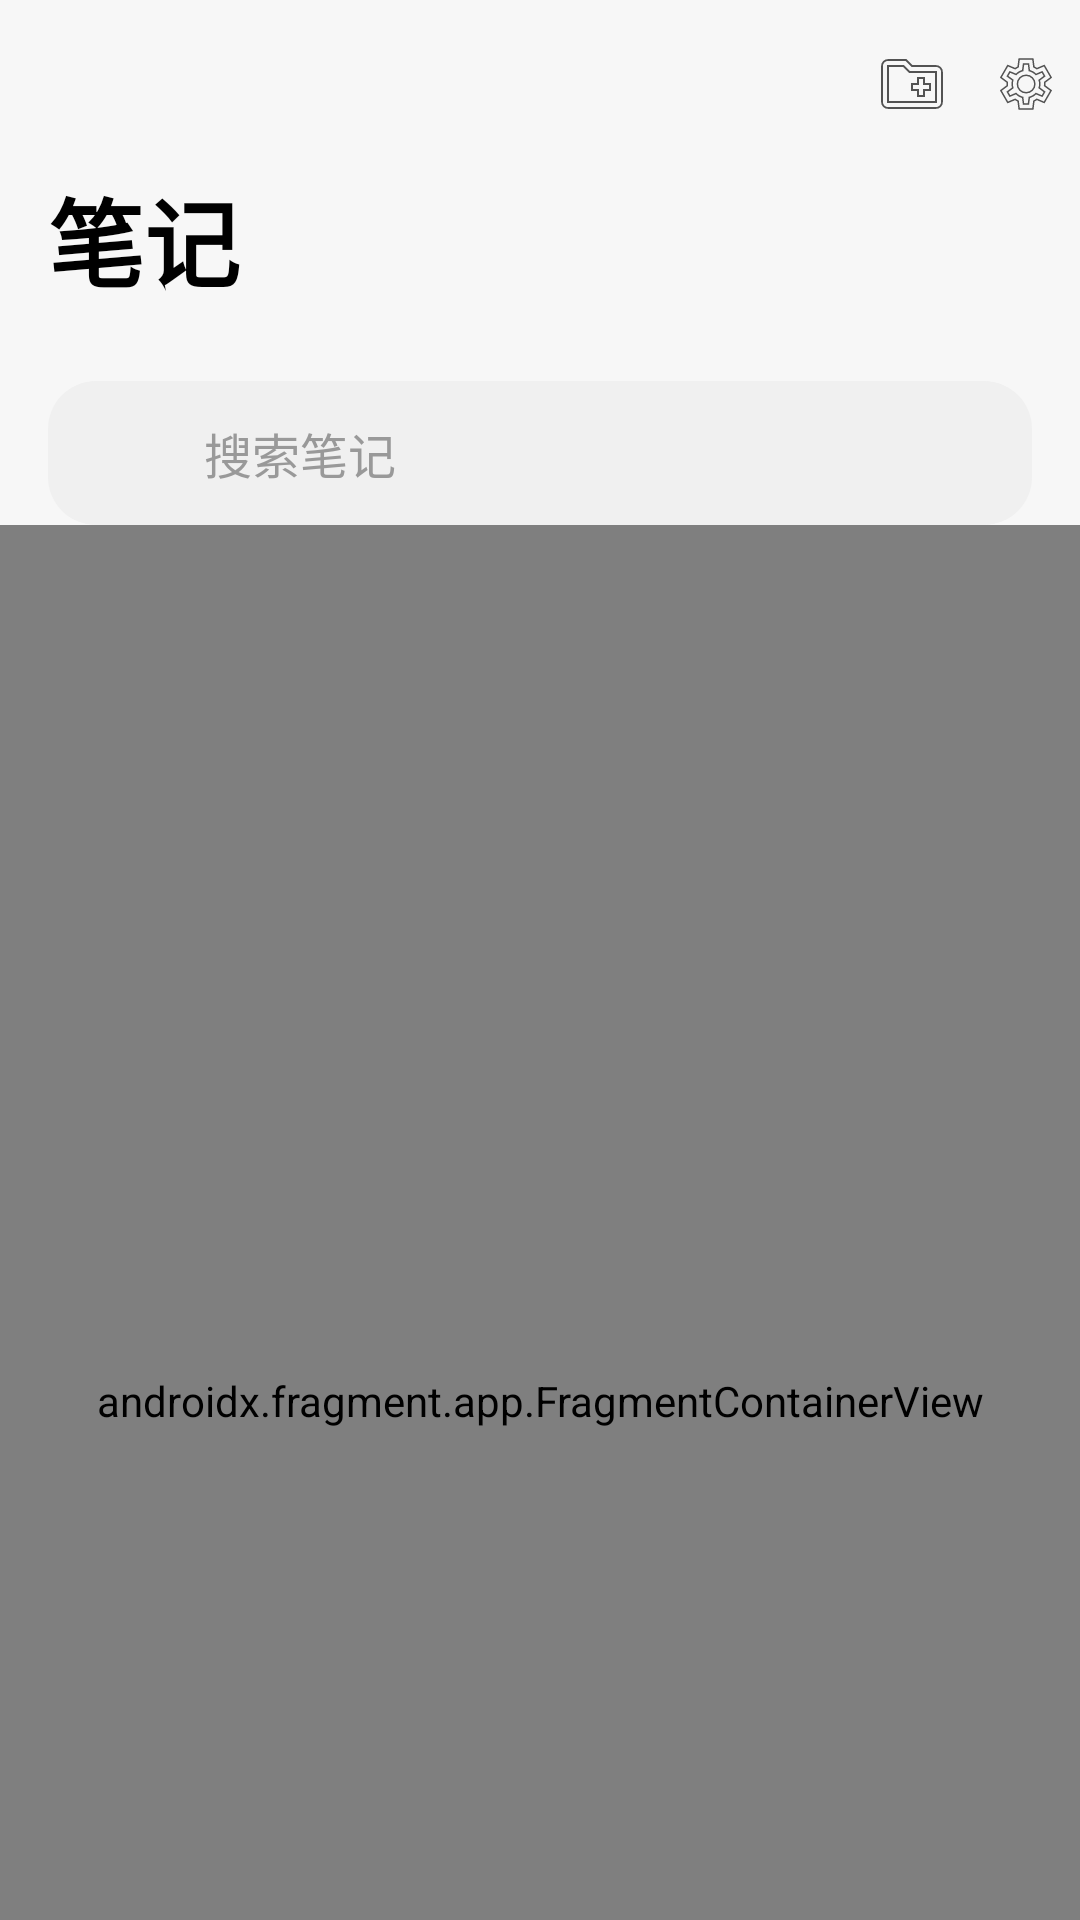

Icons on this 1080 x 1920 Android screen, each with its box as (x1,y1,x2,y2):
folder stroke: (881,59,943,109)
setting stroke: (1000,58,1052,110)
